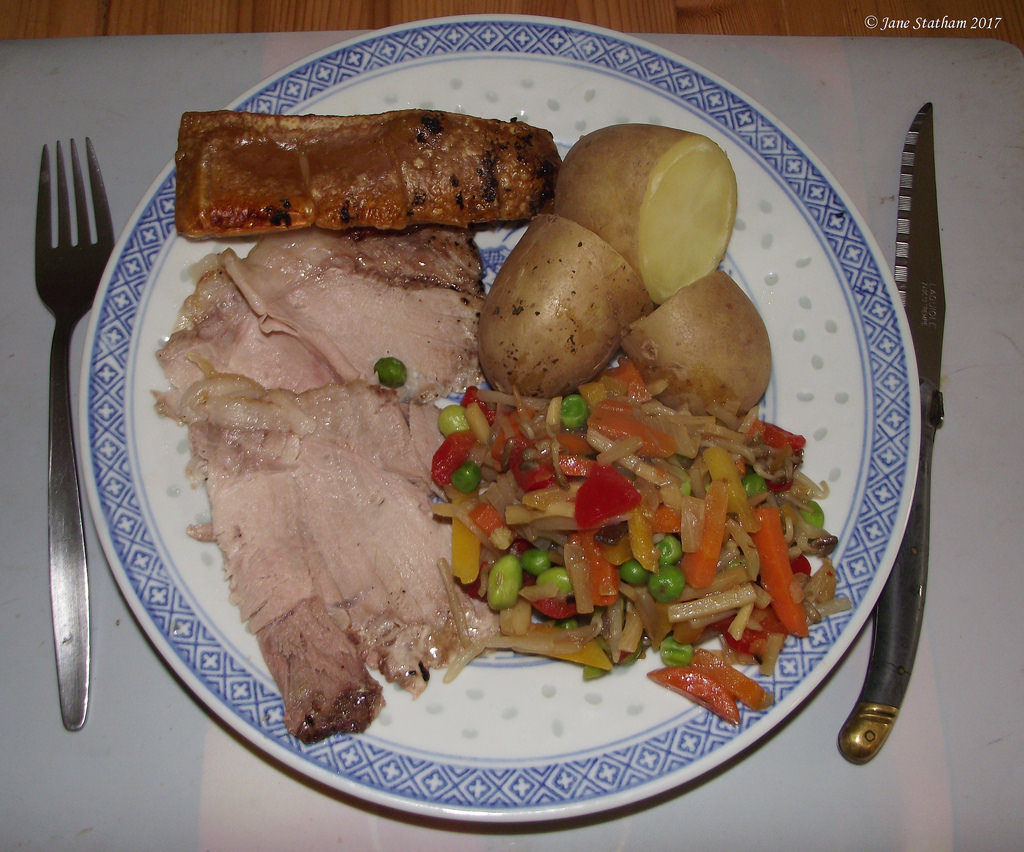boiled potatoes: (519, 141, 755, 397)
